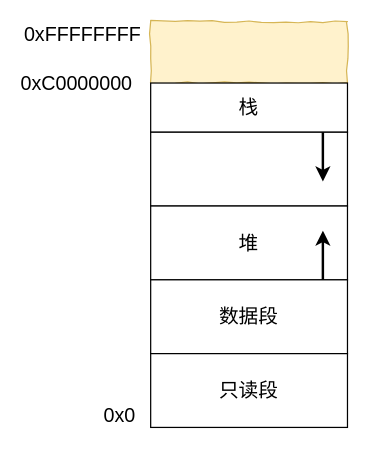
The diagram is 369 pixels wide and 449 high, and some of its shapes have lost their labels. Each missing label, with the box of its shape:
内核空间: (149, 20, 347, 83)
文件映射: (149, 131, 347, 206)
